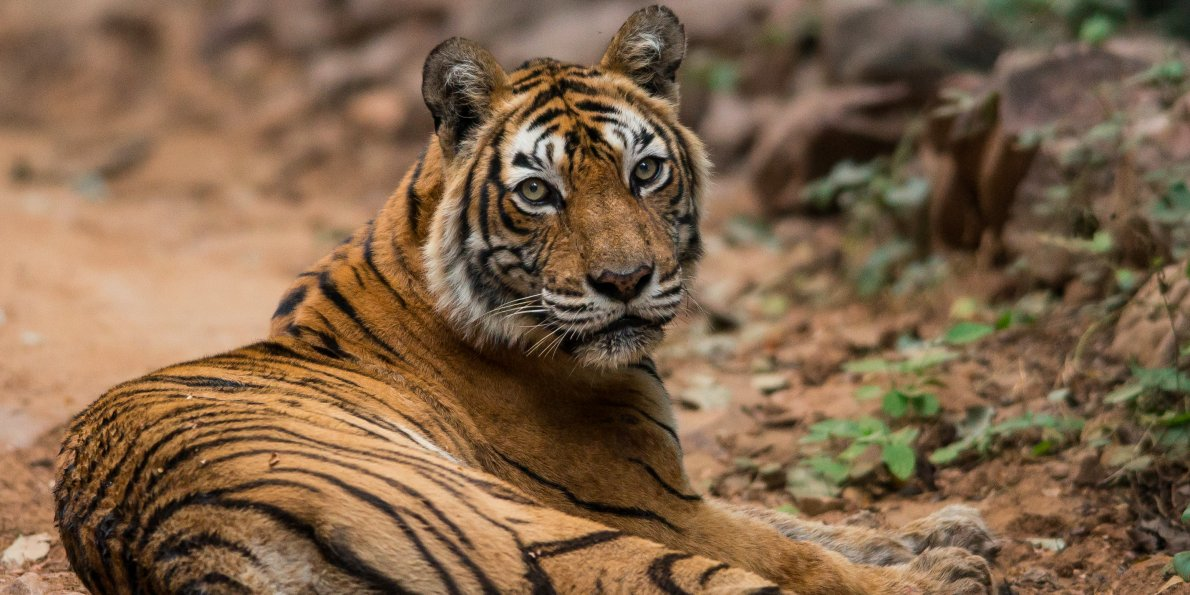Tiger: (41, 17, 996, 595)
